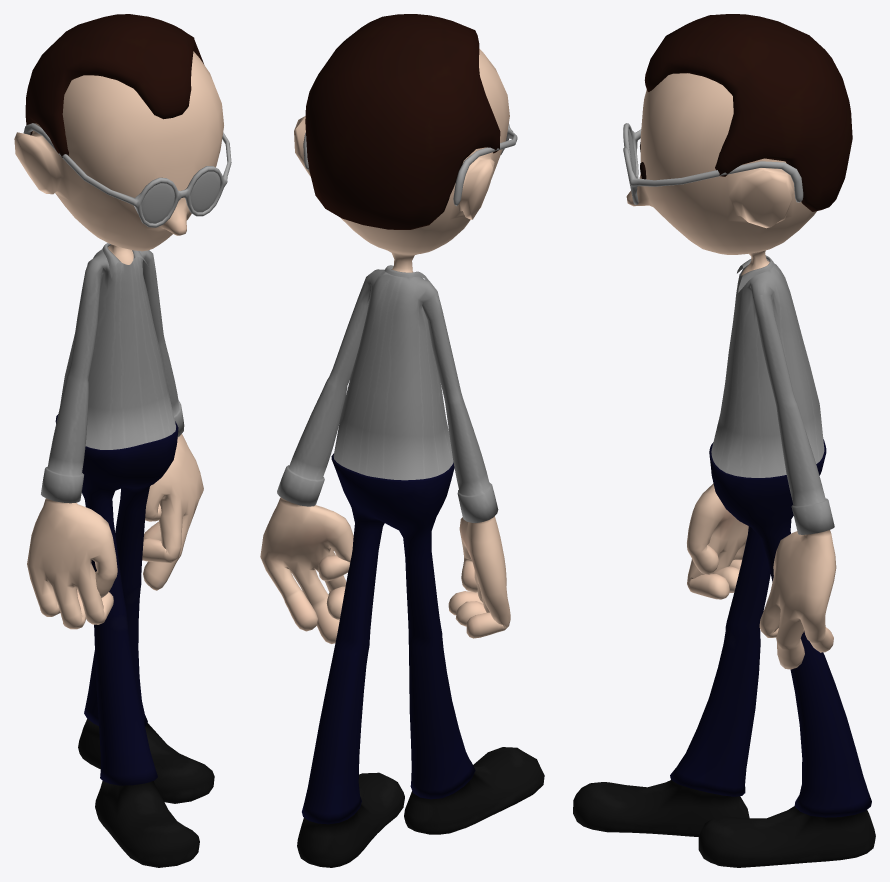
File: Animation_Cartoon_Starter_000251.obj
The picture shows the model from 3 angles, left to right: view 1: azimuth 30°, elevation 25°; view 2: azimuth 150°, elevation 25°; view 3: azimuth 270°, elevation 25°; orthographic projection. The views are drawn at different scales.
Visible parts, largest first — view 1: bm_09; view 2: bm_09; view 3: bm_09.
Part boxes in pixels (x1=…): bm_09: x1=14, y1=14, x2=231, y2=867; bm_09: x1=260, y1=14, x2=544, y2=867; bm_09: x1=573, y1=14, x2=875, y2=867.
Bounding box in the file's own units: 0.4132 × 1.51 × 0.5094.
3 materials, 1 textured.
